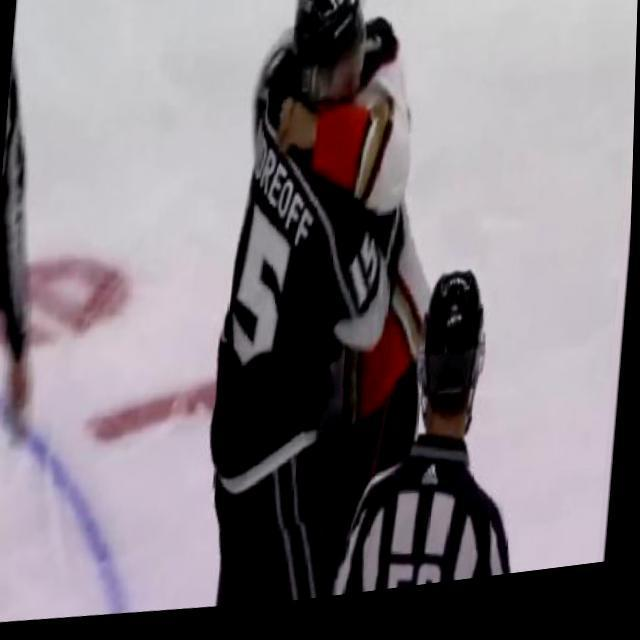fight: (198, 0, 460, 619)
